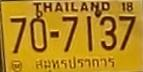0: (29, 16, 46, 52)
1: (86, 15, 91, 51)
3: (99, 15, 116, 50)
7: (118, 15, 135, 50), (61, 15, 77, 51), (10, 17, 26, 53)
SPK: (33, 56, 115, 71)
